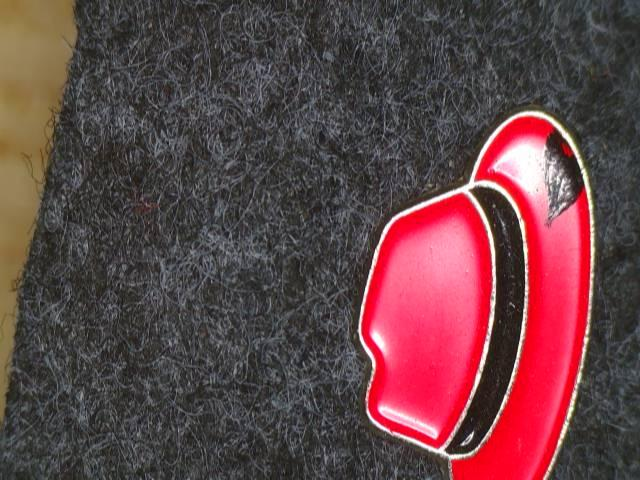Red-Hat: (337, 58, 640, 480)
Scratch: (517, 107, 604, 256)
